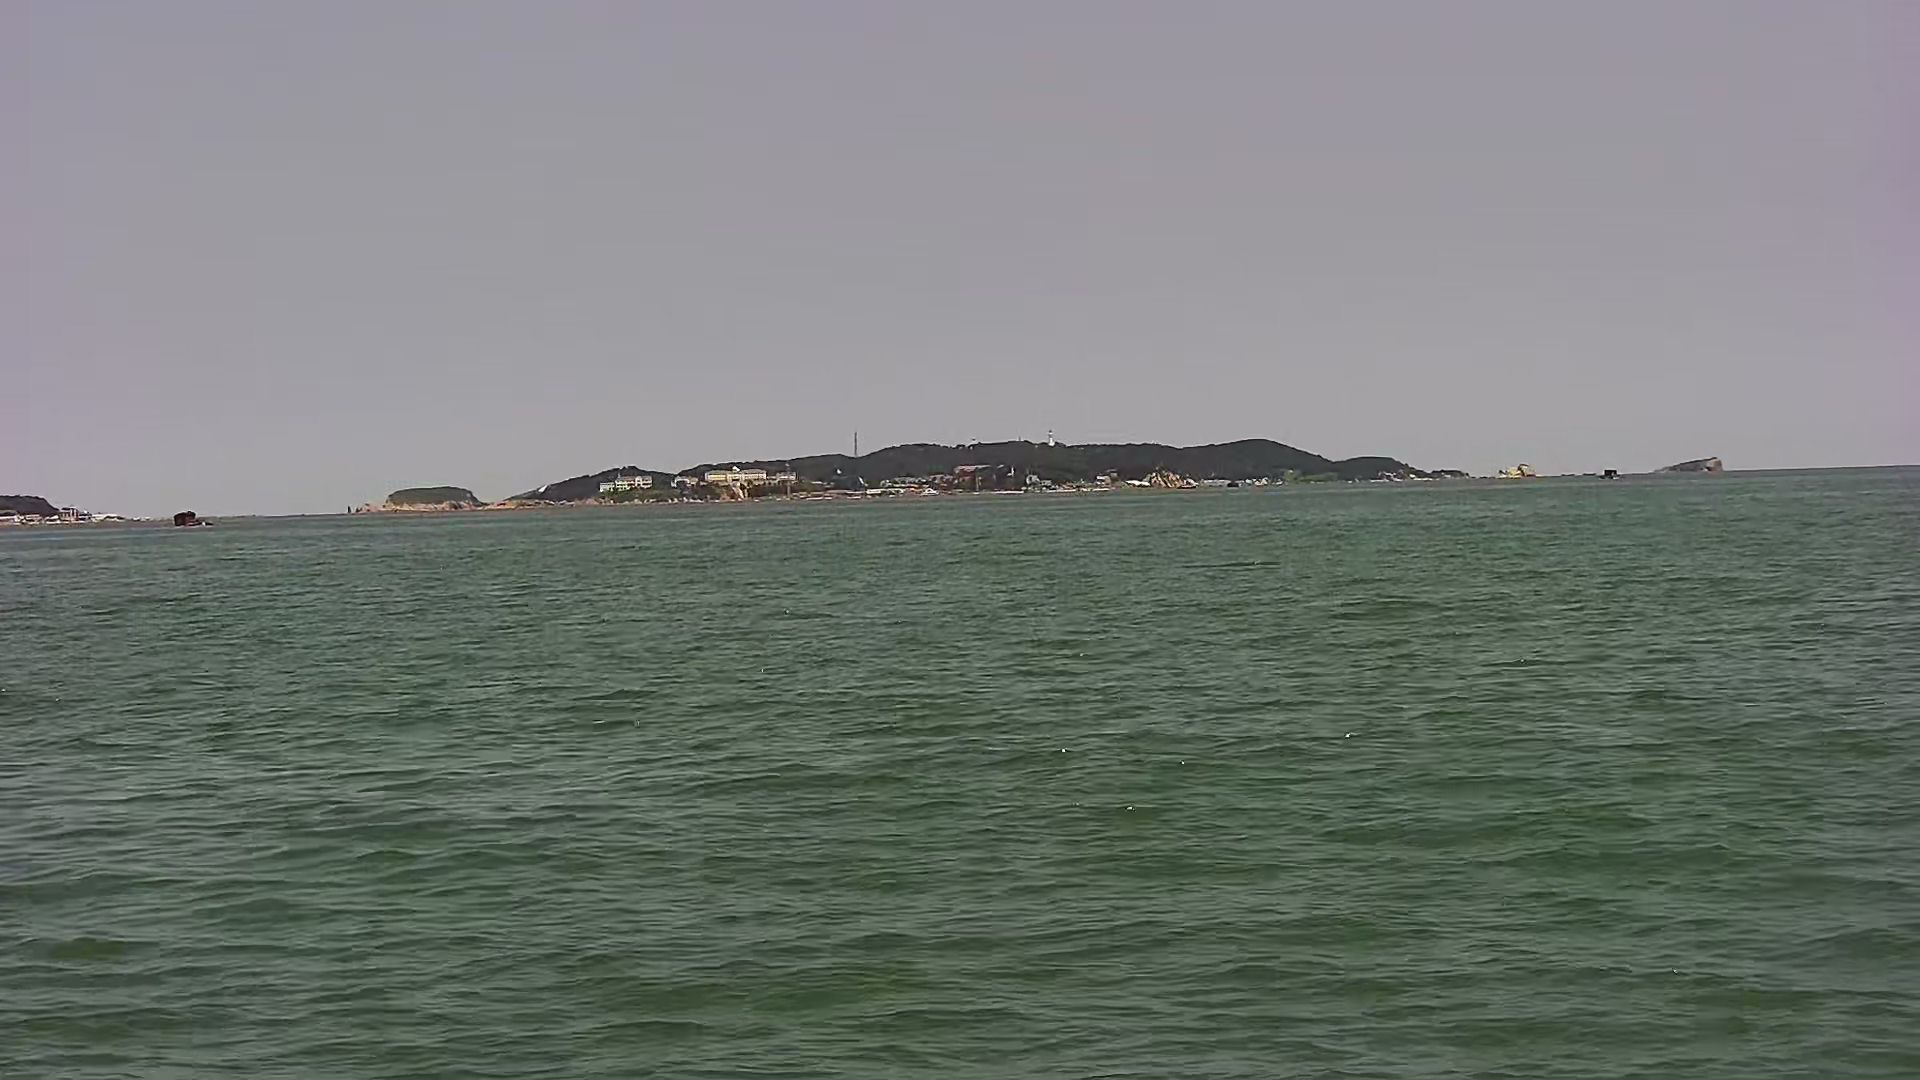rock: (359, 430, 1539, 510)
